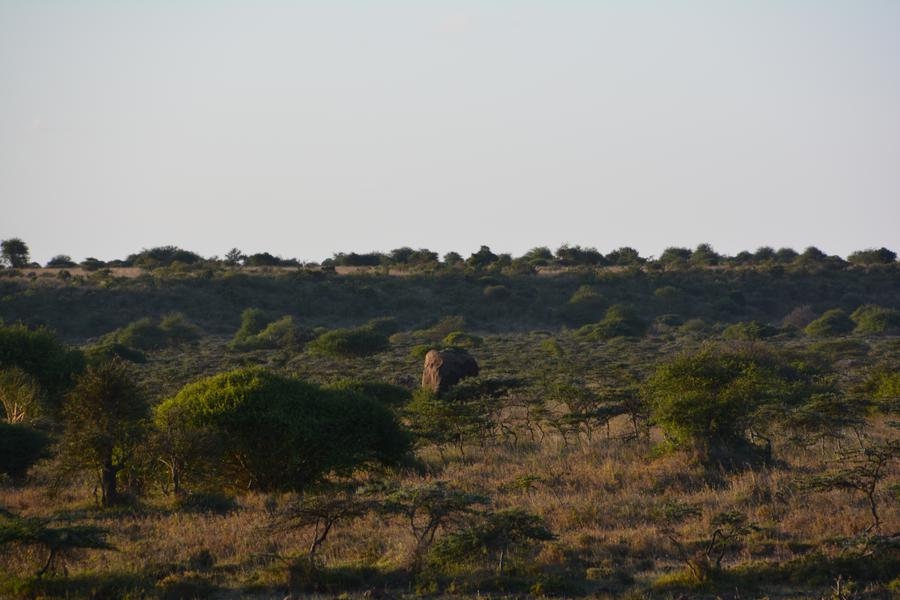elephant: (418, 348, 472, 394)
